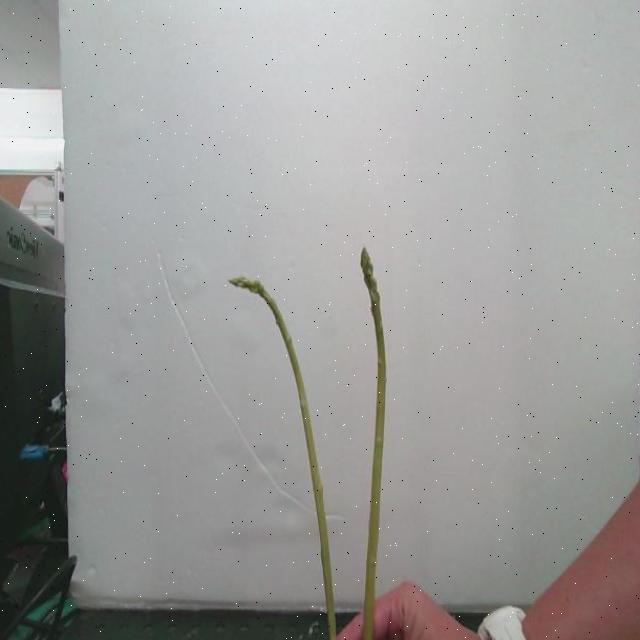aspargus: (229, 277, 338, 640), (361, 250, 386, 640)
